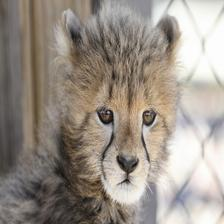Cheetah: (0, 1, 184, 224)
